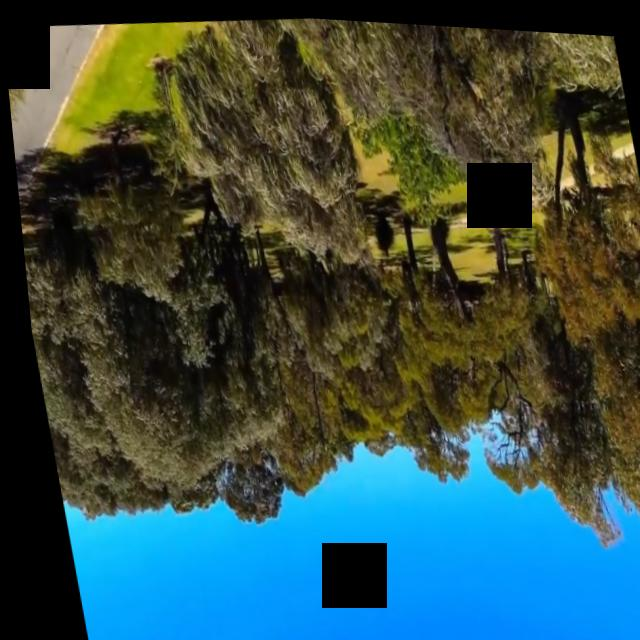Tree: (10, 128, 285, 528), (157, 7, 372, 274), (526, 110, 640, 551), (324, 15, 551, 225), (450, 209, 591, 537), (358, 210, 490, 490), (246, 266, 346, 489), (532, 25, 626, 116), (2, 25, 38, 159)
